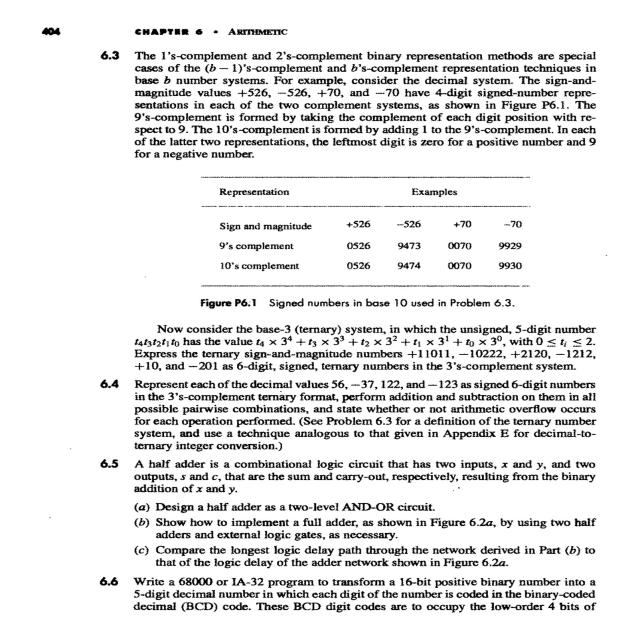diagram: (160, 168, 552, 313)
